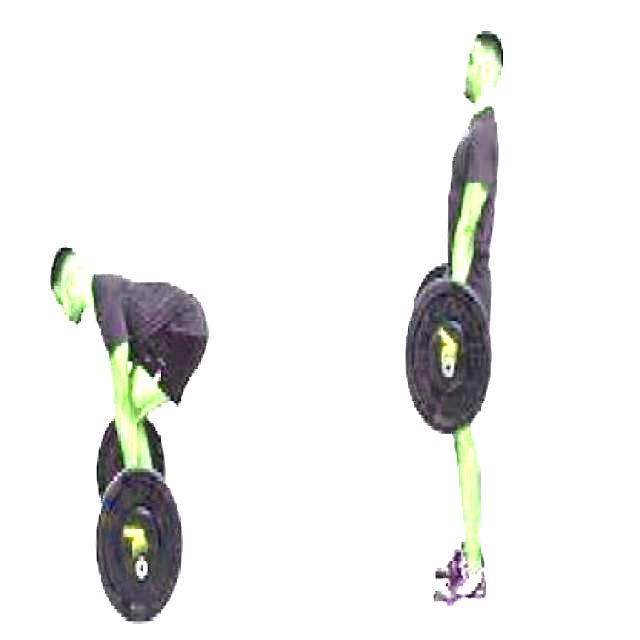barbell: (400, 272, 497, 437), (93, 464, 187, 630)
